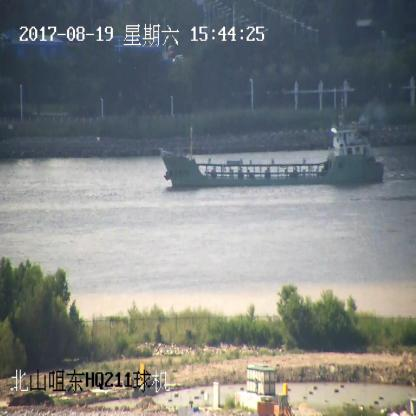Bulk Carrier: (160, 116, 383, 185)
